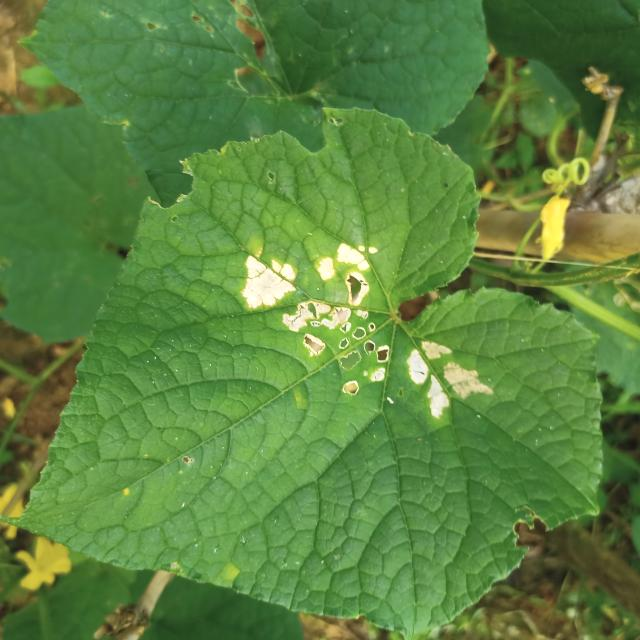disease_cucumber: (238, 235, 394, 401), (406, 334, 492, 424)
